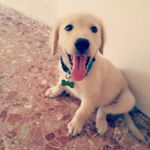puppy: (41, 8, 148, 143)
